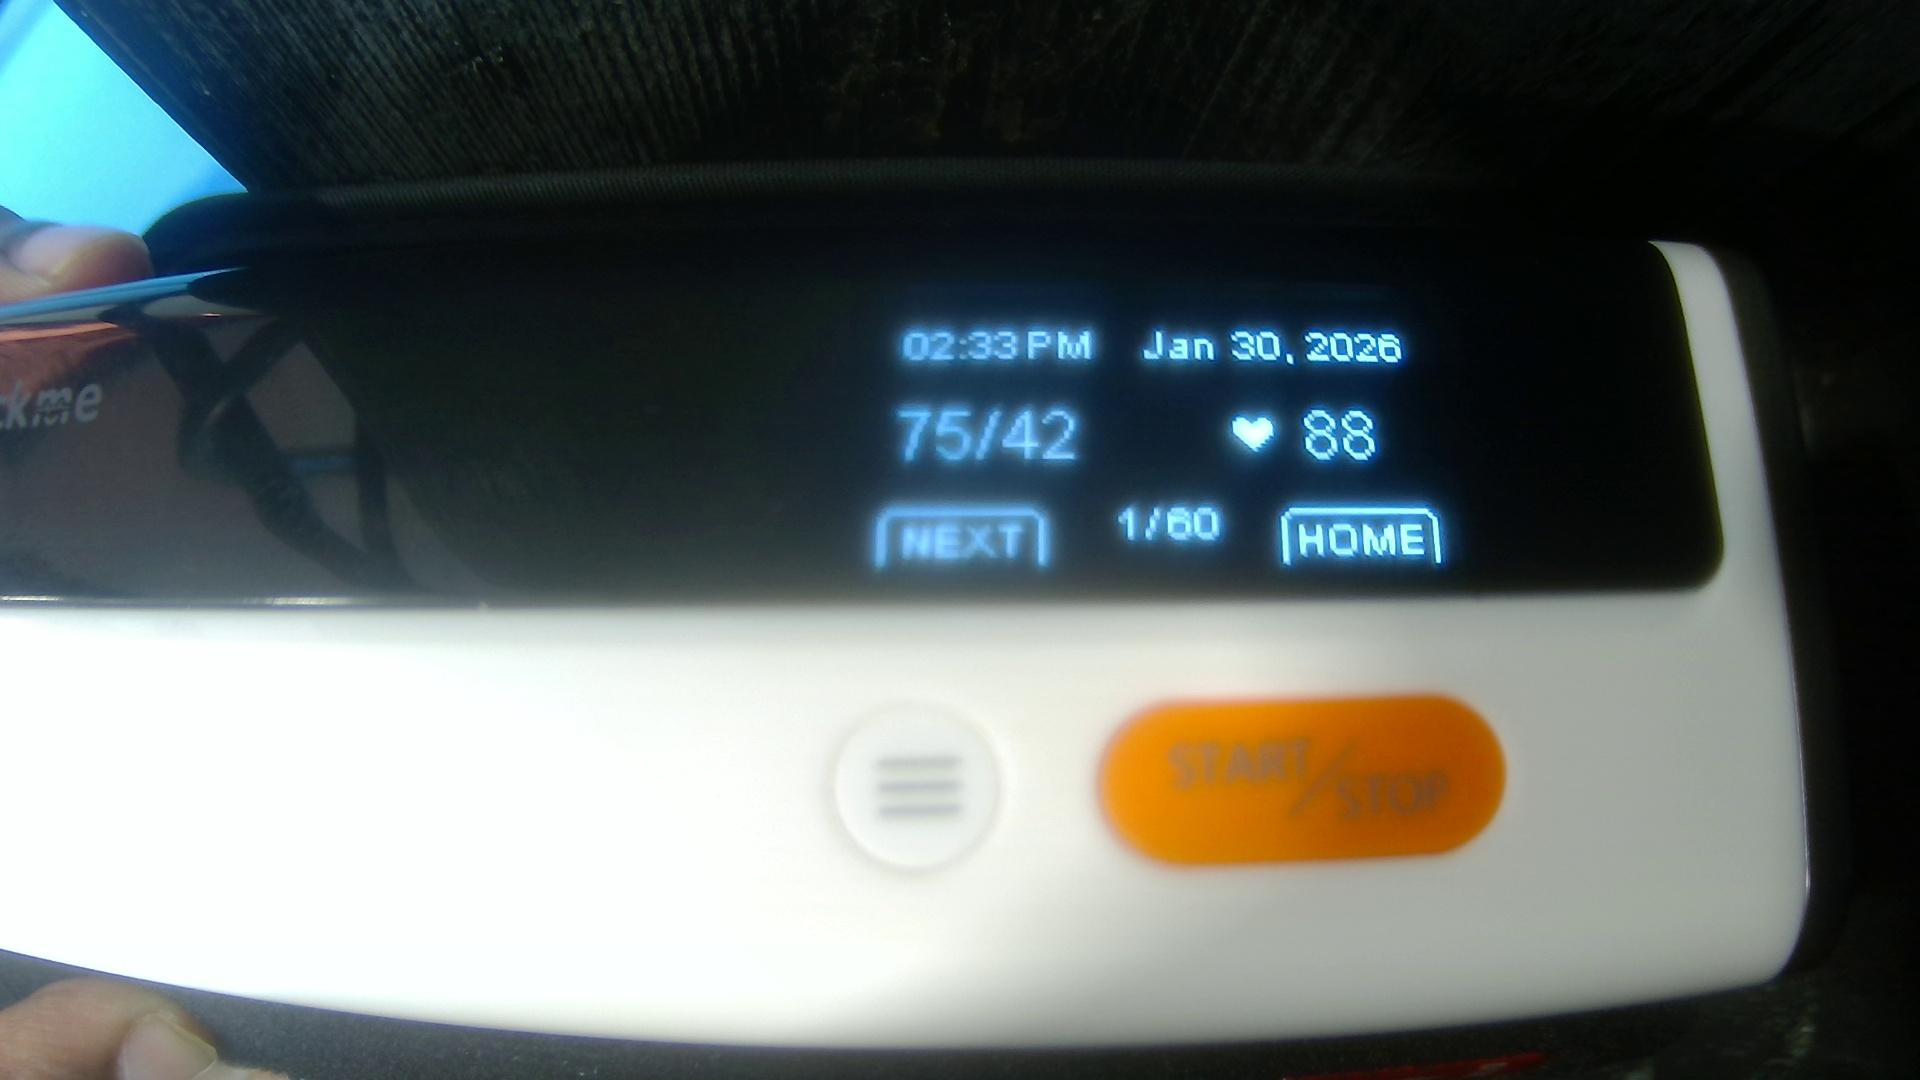DISPLAY: (1, 301, 1676, 596)
